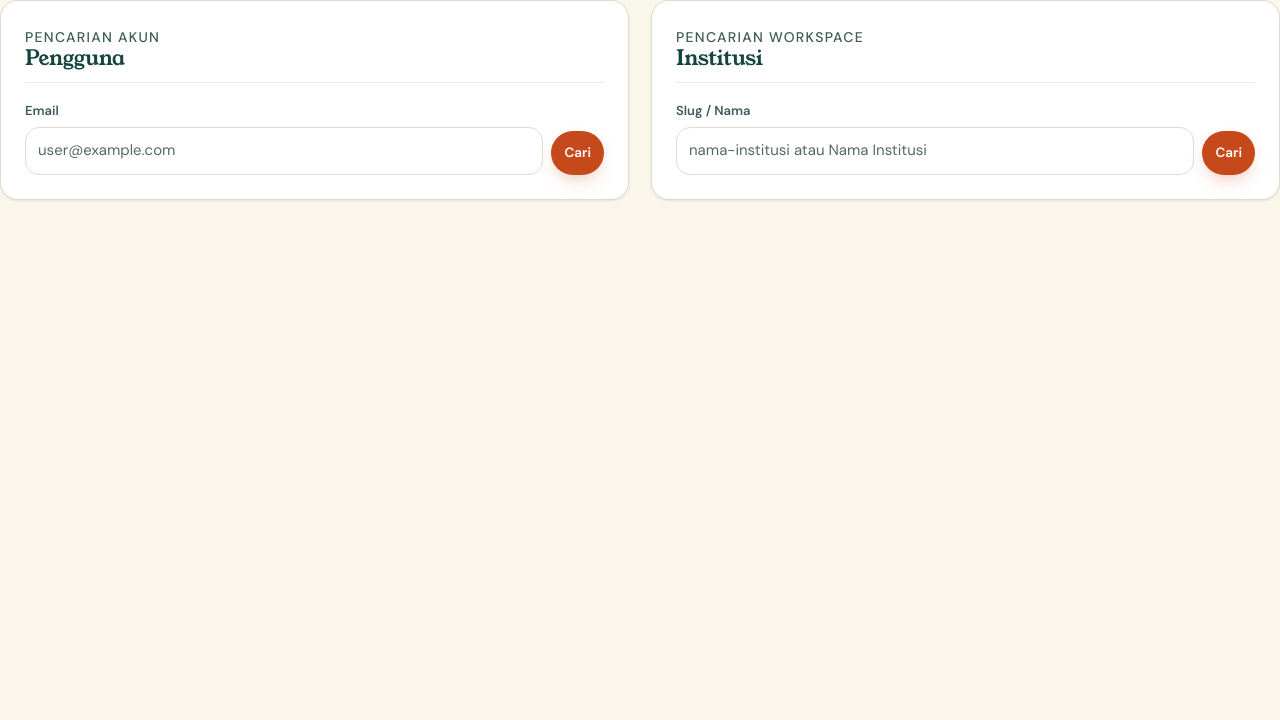
Test: what the console tells the operator when a lookup or an institution action is refused › says an institution with no active owner is not reinstated, in the operator's words
The width and height of the screenshot is (1280, 720).
Type "universitas-contoh" into the field named "Cari institusi berdasarkan slug atau nama" at (935, 151), box [676, 127, 1194, 175]
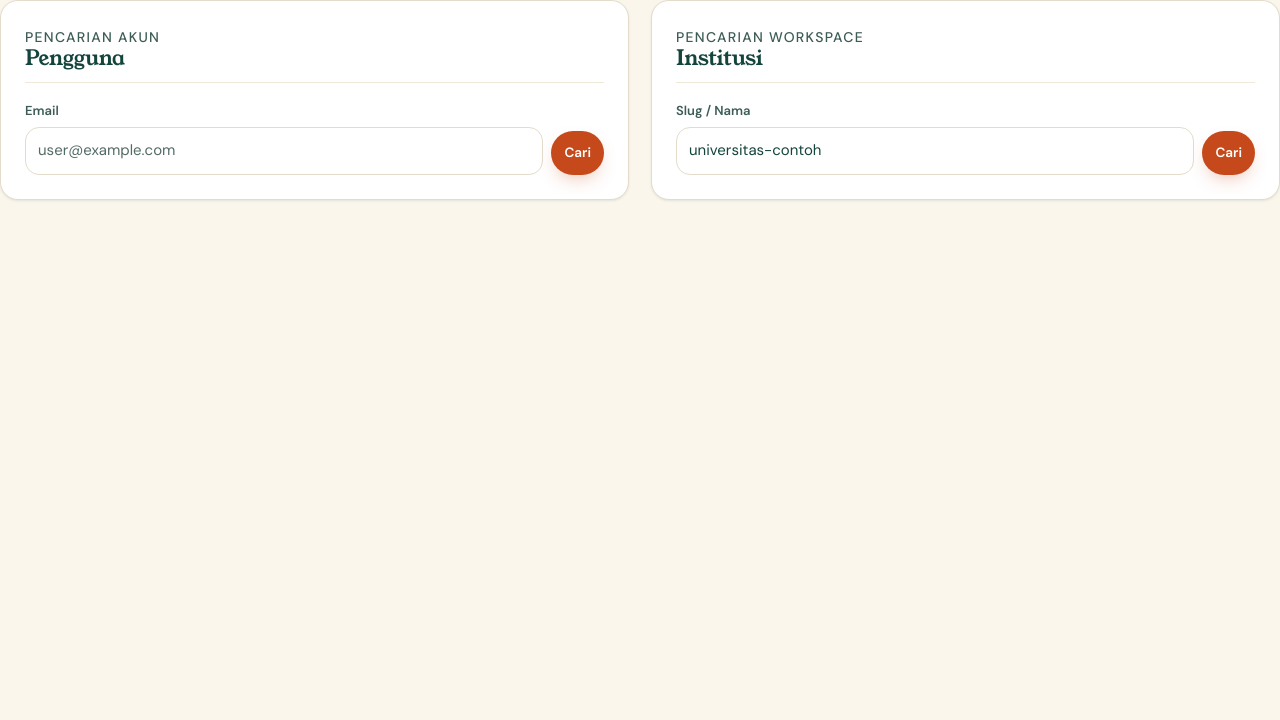
Click the 2nd button "Cari" at (1229, 153), box [1202, 131, 1255, 175]
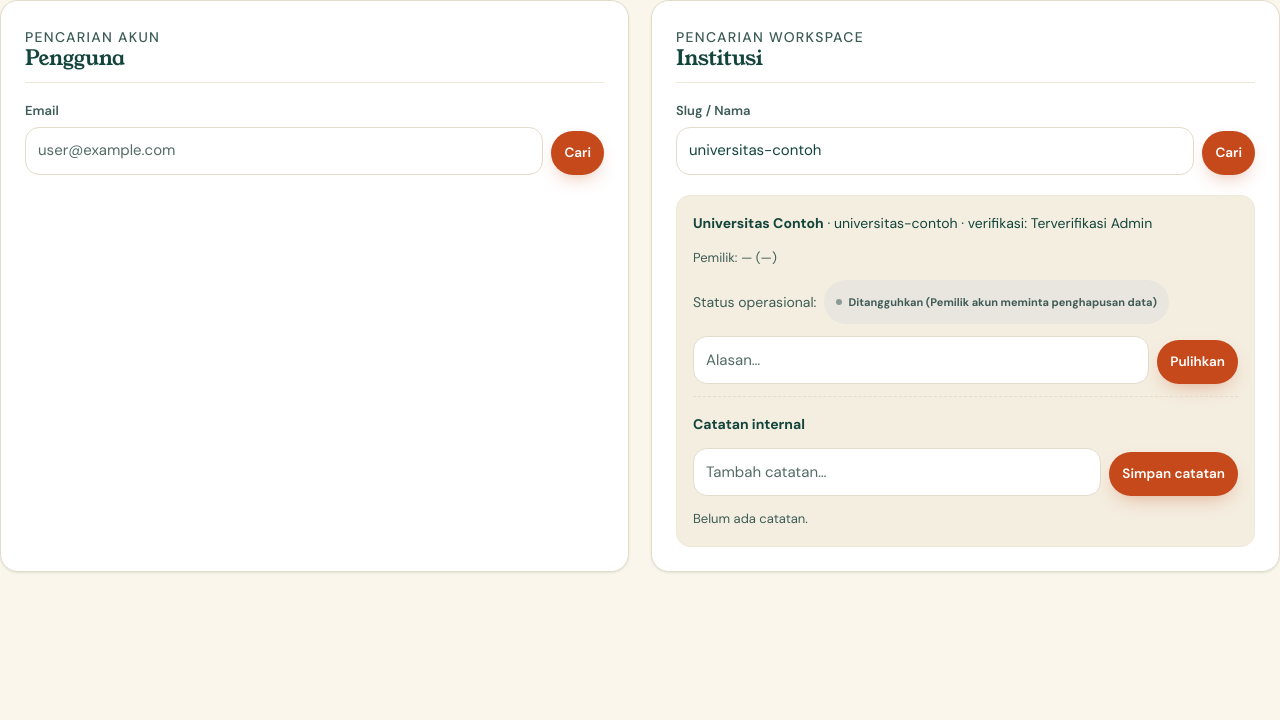
Expected: the text "Universitas Contoh" is shown, [693, 214, 824, 232]
Type "pemulihan" into the field named "Alasan Pulihkan" at (921, 360), box [693, 336, 1149, 384]
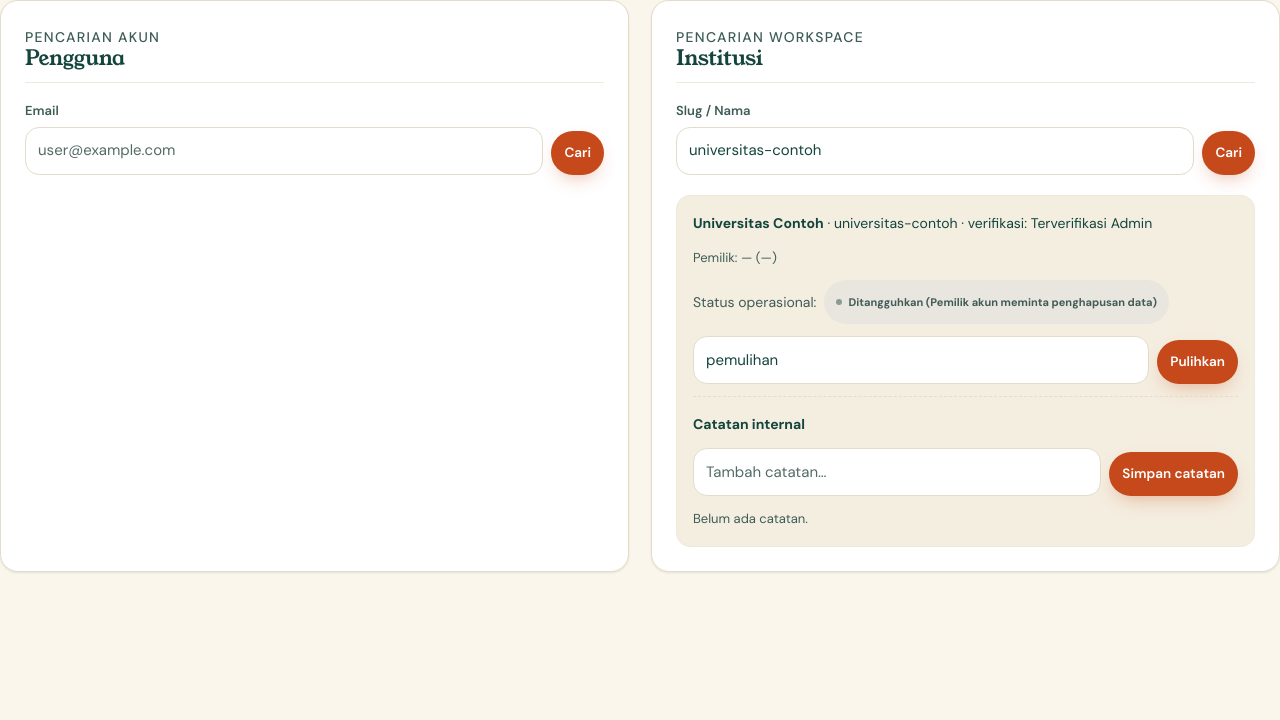
Click the button "Pulihkan" at (1198, 362), box [1157, 340, 1238, 384]
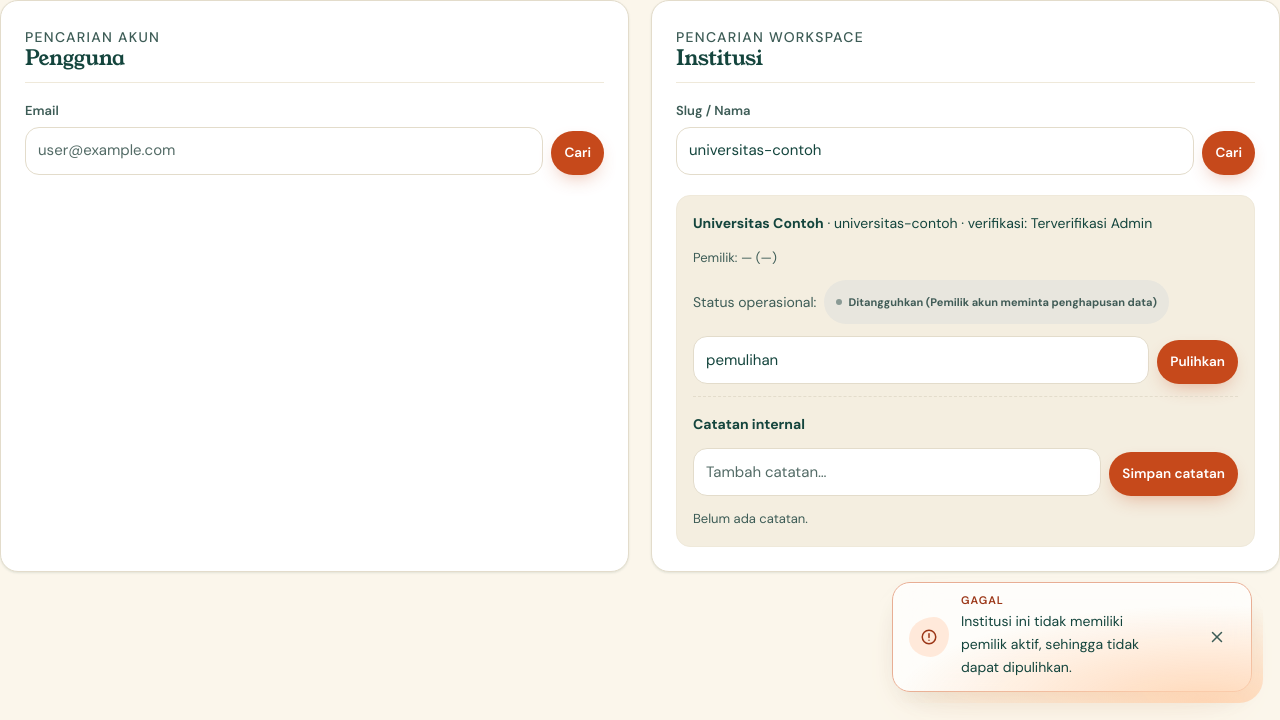
Expected: the text "Institusi ini tidak memiliki pemilik aktif, sehingga tidak dapat dipulihkan." is shown, [961, 612, 1139, 676]
